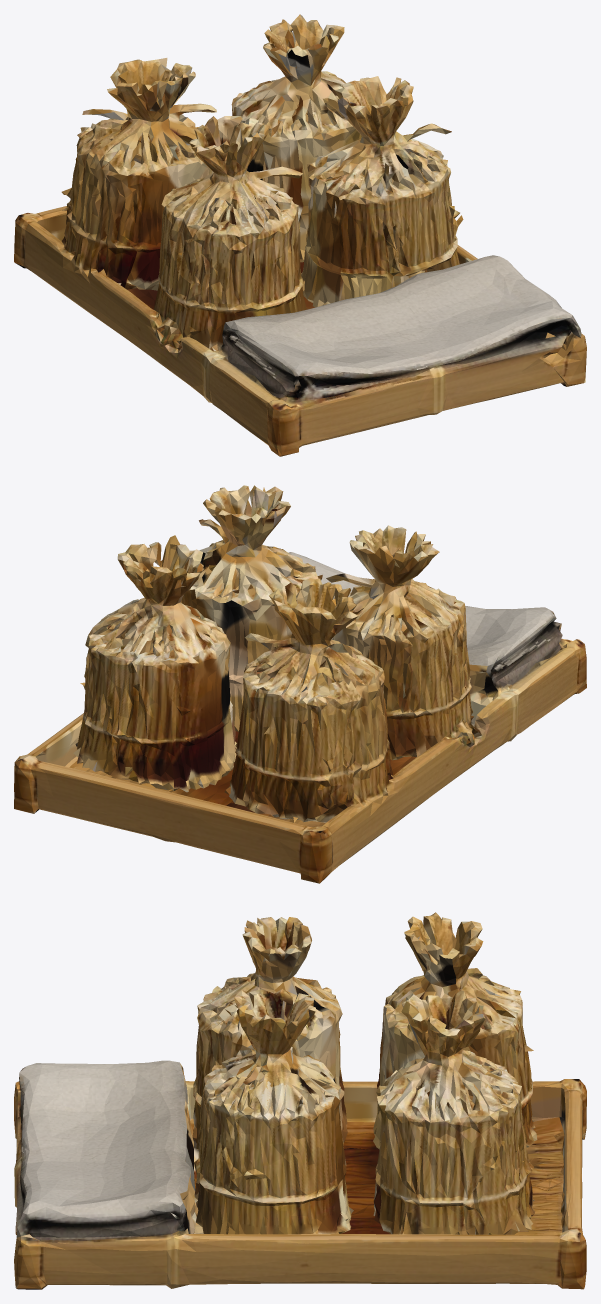
The model's file is traveler_env_coast_ojatara_field_sacks_00001_.glb.
3 views of the same model, one above another, from view 1: azimuth 30°, elevation 25°; view 2: azimuth 150°, elevation 25°; view 3: azimuth 270°, elevation 25° (orthographic). The views are drawn at different scales.
Visible parts, largest first — view 1: temp_mesh.ply; view 2: temp_mesh.ply; view 3: temp_mesh.ply.
Part boxes in pixels (x1,y1,x2,y2): temp_mesh.ply: [14, 14, 586, 456]; temp_mesh.ply: [14, 485, 586, 883]; temp_mesh.ply: [14, 912, 586, 1289].
Size of the model in its own units: 1.34 by 0.9429 by 1.97.
1 material, 1 textured.
